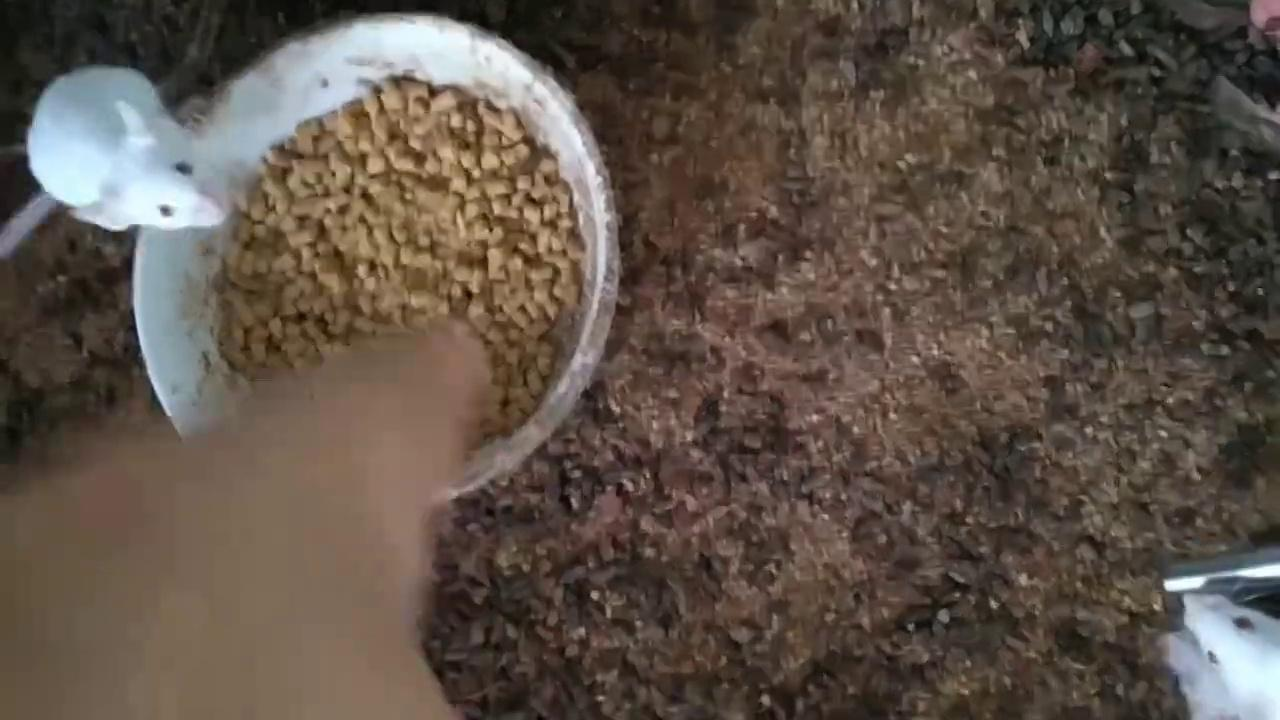rat: (2, 65, 228, 252), (1163, 595, 1280, 720)
